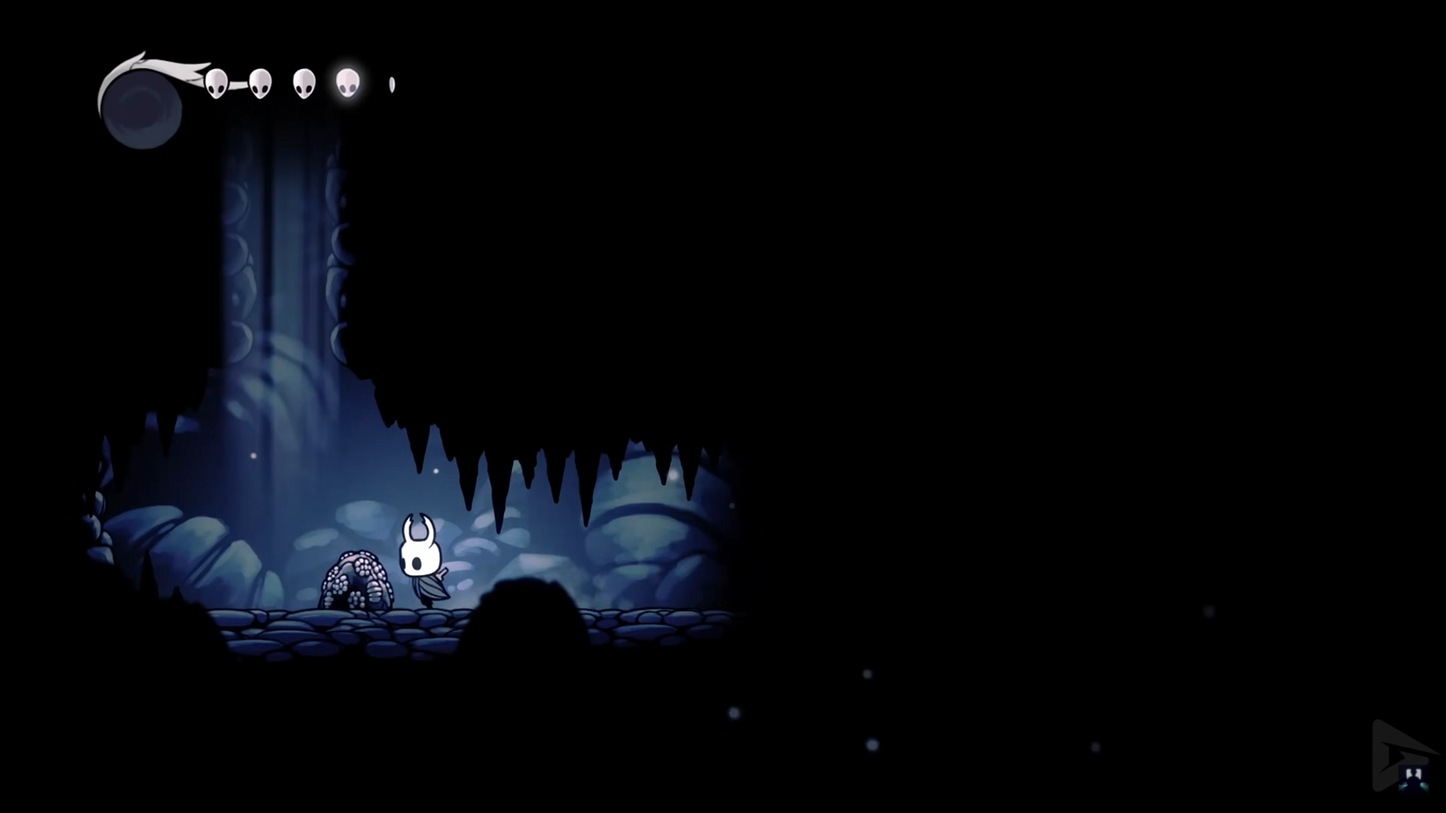HK: (398, 512, 450, 613)
